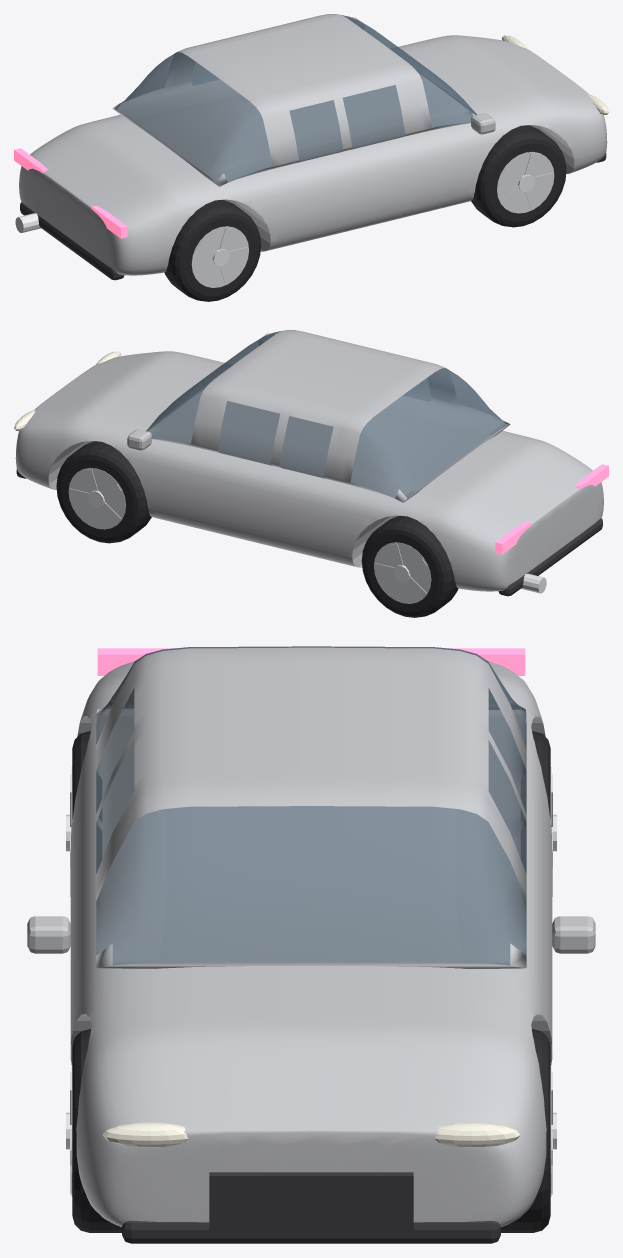
Rendered from dusty_sedan.fbx.
The picture shows the model from 3 angles, top to bottom: view 1: azimuth 30°, elevation 25°; view 2: azimuth 150°, elevation 25°; view 3: azimuth 270°, elevation 25°; orthographic projection. The views are drawn at different scales.
Parts seen in each view (by area): view 1: Body.002, Glass.002, Tire.002, Rim.002, Trim.002, TailLight.002, Chrome.002; view 2: Body.002, Glass.002, Tire.002, Rim.002, Trim.002, TailLight.002, Chrome.002; view 3: Body.002, Glass.002, Trim.002, Tire.002, HeadLight.002, TailLight.002, Rim.002.
Part boxes in pixels (x1,y1,x2,y2): Body.002: (19,14,607,275); Glass.002: (116,15,477,182); Tire.002: (164,125,566,301); Rim.002: (191,152,554,287); Trim.002: (20,153,606,280); TailLight.002: (14,148,127,238); Chrome.002: (15,174,534,266); Body.002: (15,330,603,591); Glass.002: (146,331,506,498); Tire.002: (56,441,458,617); Rim.002: (68,468,431,603); Trim.002: (16,469,602,596); TailLight.002: (495,464,608,554); Chrome.002: (88,490,546,593); Body.002: (27,647,595,1226); Glass.002: (96,646,526,965); Trim.002: (122,1172,500,1243); Tire.002: (72,731,550,1232); HeadLight.002: (102,1122,520,1147); TailLight.002: (97,648,525,675); Rim.002: (70,767,552,1196).
Size of the model in its own units: 1510 by 475 by 724.
